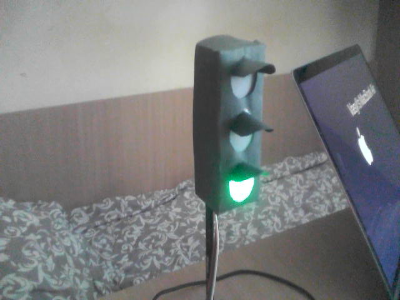trafficlight_green: (216, 49, 263, 207)
